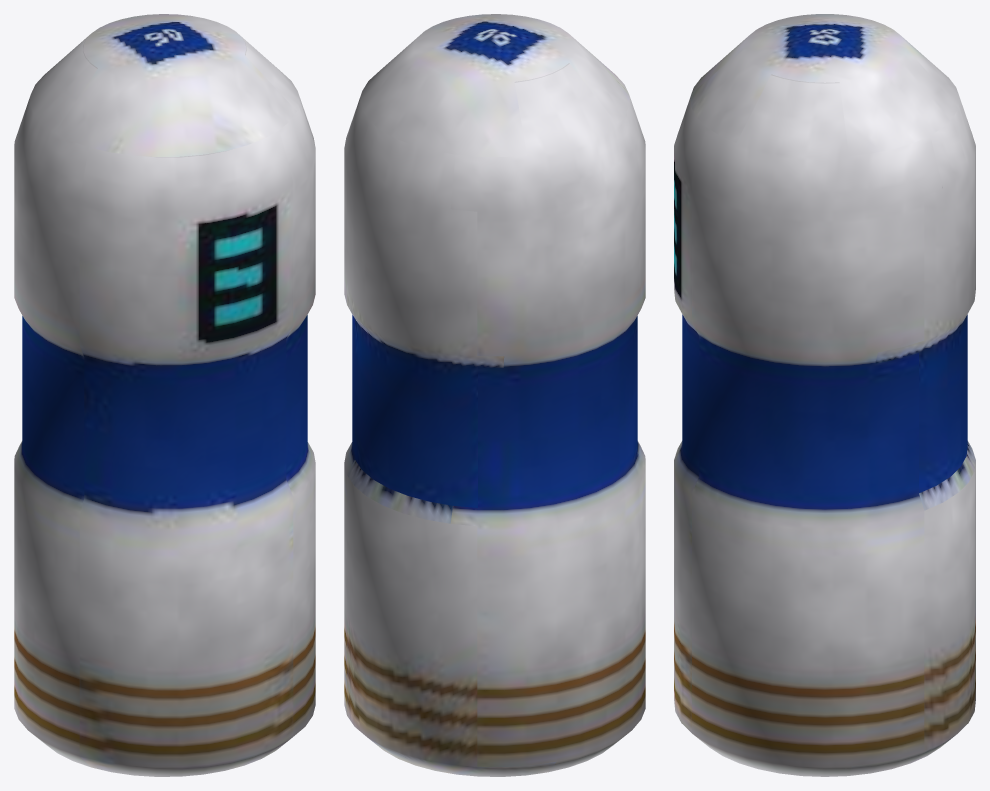
File: data_core.glb
The picture shows the model from 3 angles, left to right: view 1: azimuth 30°, elevation 25°; view 2: azimuth 150°, elevation 25°; view 3: azimuth 270°, elevation 25°; orthographic projection.
Visible parts, largest first — view 1: data_core; view 2: data_core; view 3: data_core.
Boxes of the visible parts, left/top/right/bottom form: data_core: left=14, top=14, right=315, bottom=776; data_core: left=344, top=14, right=645, bottom=776; data_core: left=674, top=14, right=975, bottom=776.
Size of the model in its own units: 0.0739 by 0.186 by 0.0739.
1 material, 1 textured.
